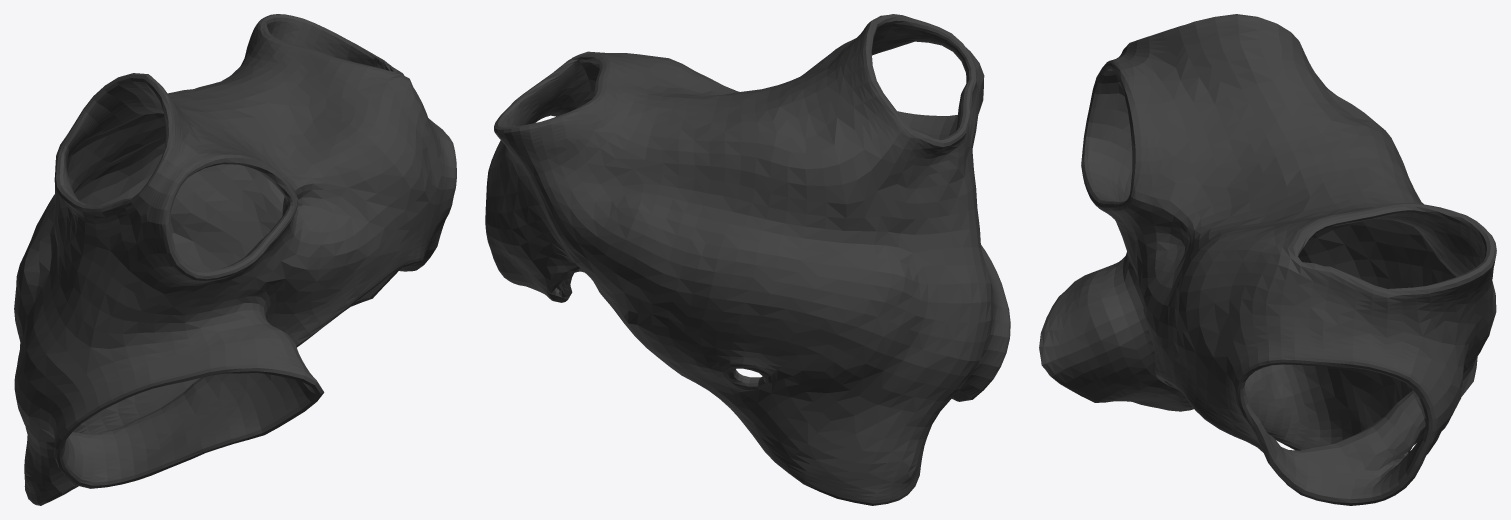
The model's file is Vestibule_L.glb.
The picture shows the model from 3 angles, left to right: view 1: azimuth 30°, elevation 25°; view 2: azimuth 150°, elevation 25°; view 3: azimuth 270°, elevation 25°; orthographic projection. The views are drawn at different scales.
Visible parts, largest first — view 1: Vestibule_L; view 2: Vestibule_L; view 3: Vestibule_L.
Boxes of the visible parts, <box> form: Vestibule_L: <box>14,14,456,505</box>; Vestibule_L: <box>485,14,1010,505</box>; Vestibule_L: <box>1039,14,1496,505</box>.
Size of the model in its own units: 1.52 by 1.46 by 1.24.
Materials: 1 (1 with a texture image).
